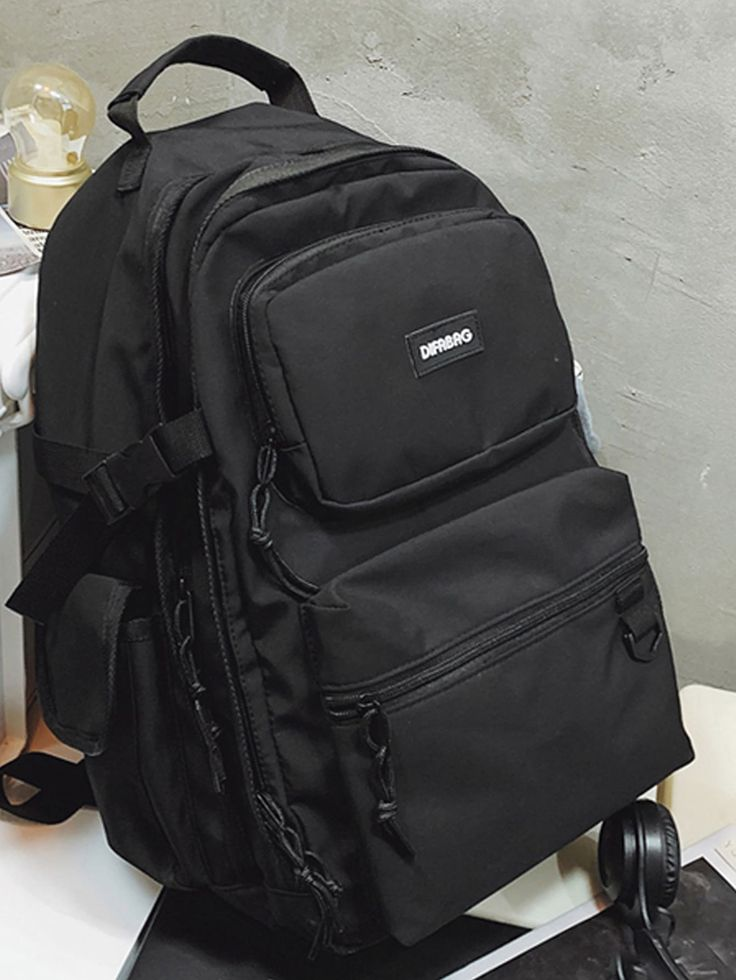nylon: (4, 35, 697, 959)
